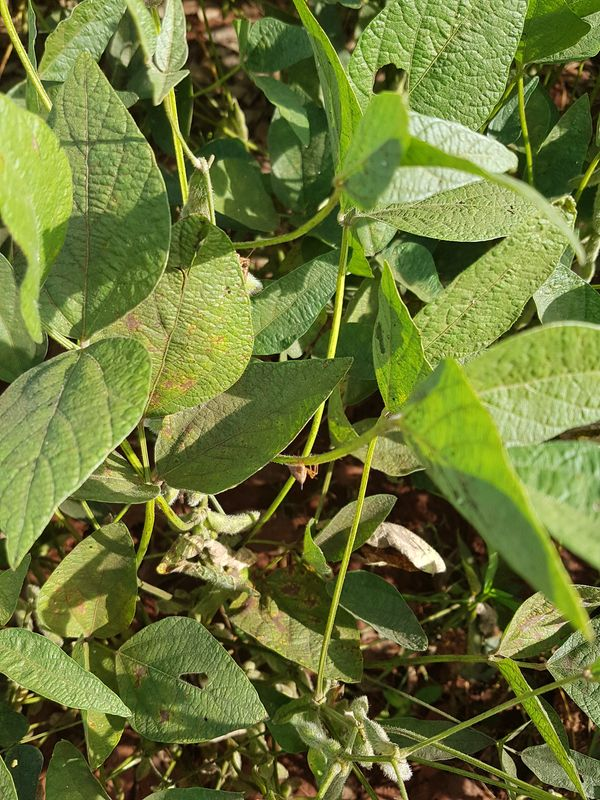Euschistus_heros_adulto: (279, 455, 323, 494)
